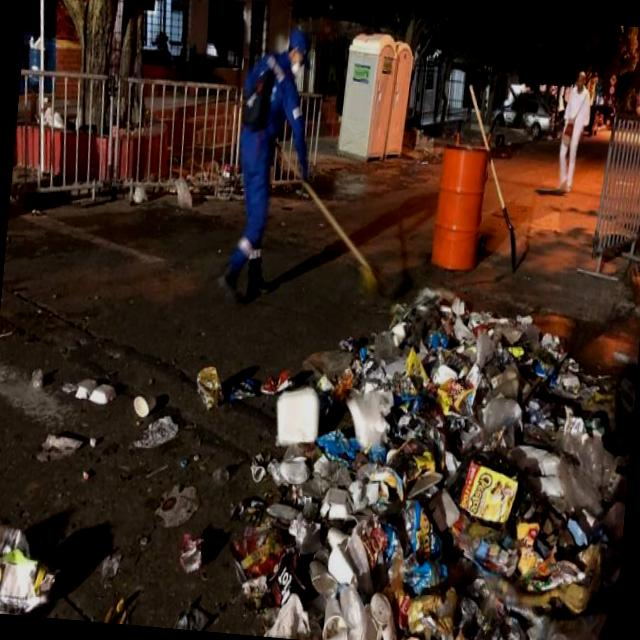garbage: (198, 277, 635, 640)
